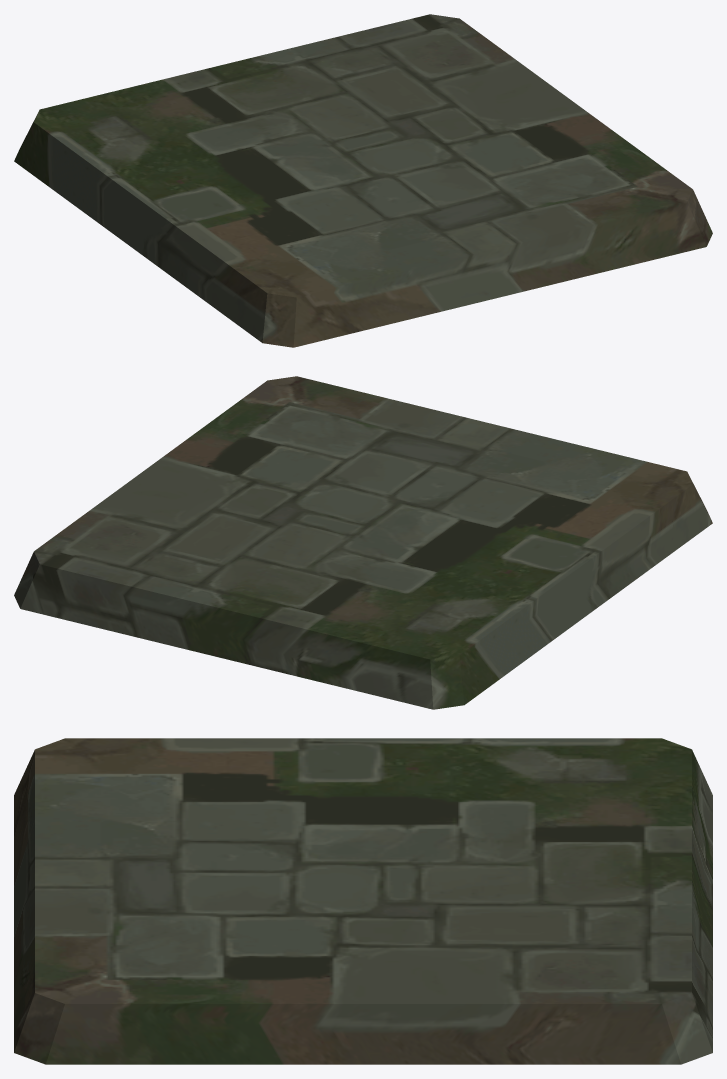
The model's file is cs_xinzhucheng_dadizhuan_001.FBX.
3 renders of one model, top to bottom at view 1: azimuth 30°, elevation 25°; view 2: azimuth 150°, elevation 25°; view 3: azimuth 270°, elevation 25°, orthographic. The views are drawn at different scales.
Visible parts, largest first — view 1: cs_xinzhucheng_dadizhuan_001; view 2: cs_xinzhucheng_dadizhuan_001; view 3: cs_xinzhucheng_dadizhuan_001.
Part boxes in pixels (<box>): cs_xinzhucheng_dadizhuan_001: <box>14,14,712,347</box>; cs_xinzhucheng_dadizhuan_001: <box>14,376,712,709</box>; cs_xinzhucheng_dadizhuan_001: <box>14,738,712,1064</box>.
Size of the model in its own units: 5.95 by 0.5225 by 6.25.
